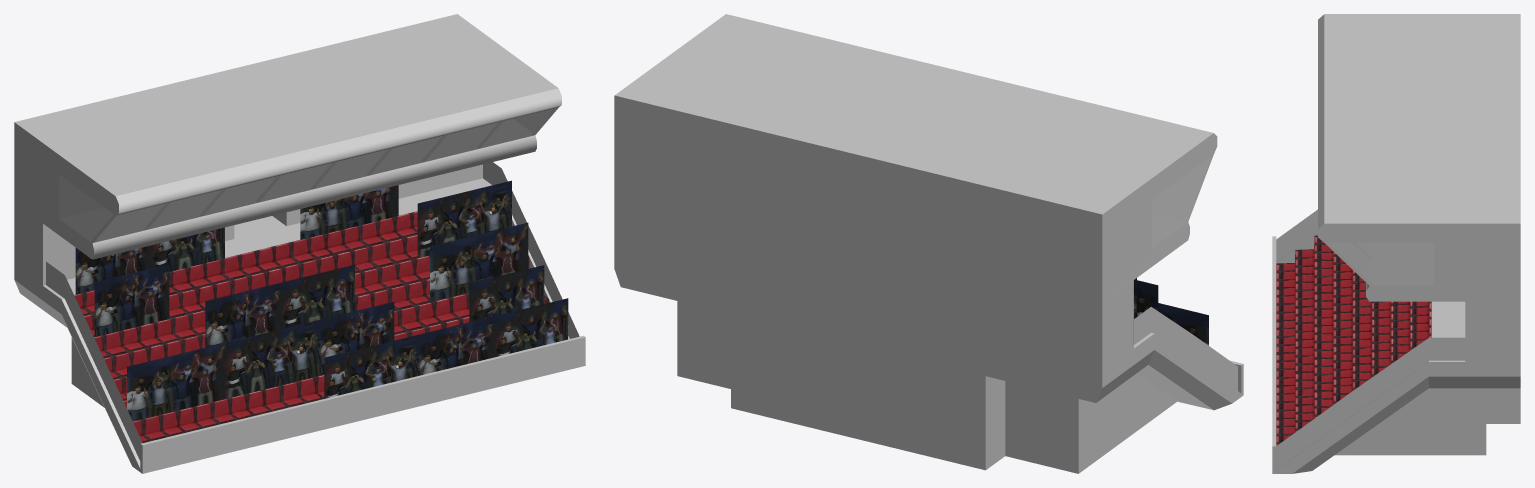
File: Grandstand_B.fbx
3 views of the same model, side by side, from view 1: azimuth 30°, elevation 25°; view 2: azimuth 150°, elevation 25°; view 3: azimuth 270°, elevation 25° (orthographic). The views are drawn at different scales.
Visible parts, largest first — view 1: Concrete, Crowd_B, Seats, Glass, Side_Fence; view 2: Concrete, Side_Fence, Glass, Crowd_B; view 3: Concrete, Seats, Side_Fence, Glass.
Part boxes in pixels (x1=…): Concrete: x1=14, y1=14, x2=585, y2=473; Crowd_B: x1=75, y1=180, x2=568, y2=421; Seats: x1=74, y1=211, x2=548, y2=442; Glass: x1=59, y1=108, x2=557, y2=242; Side_Fence: x1=46, y1=162, x2=579, y2=460; Concrete: x1=614, y1=14, x2=1243, y2=473; Side_Fence: x1=1134, y1=307, x2=1237, y2=390; Glass: x1=1151, y1=155, x2=1213, y2=248; Crowd_B: x1=1134, y1=278, x2=1208, y2=345; Concrete: x1=1272, y1=14, x2=1520, y2=473; Seats: x1=1276, y1=235, x2=1431, y2=445; Side_Fence: x1=1276, y1=209, x2=1465, y2=468; Glass: x1=1324, y1=242, x2=1433, y2=285.
Bounding box in the file's own units: 1968 × 1096 × 986.
